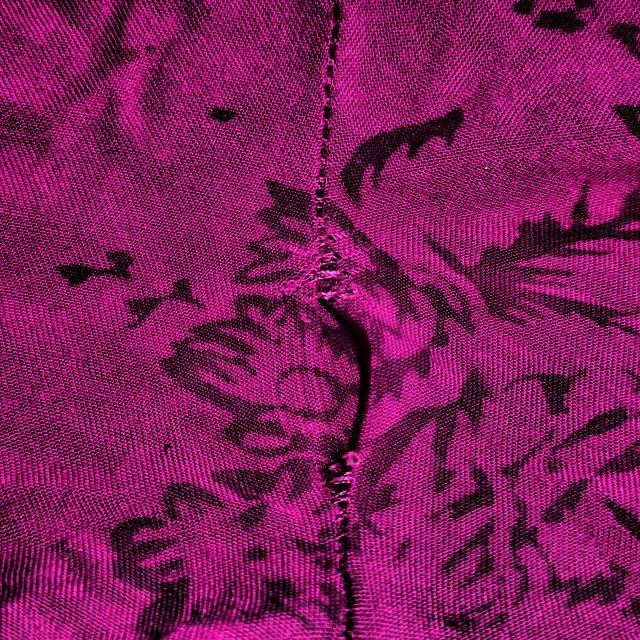cut: (287, 267, 425, 530)
